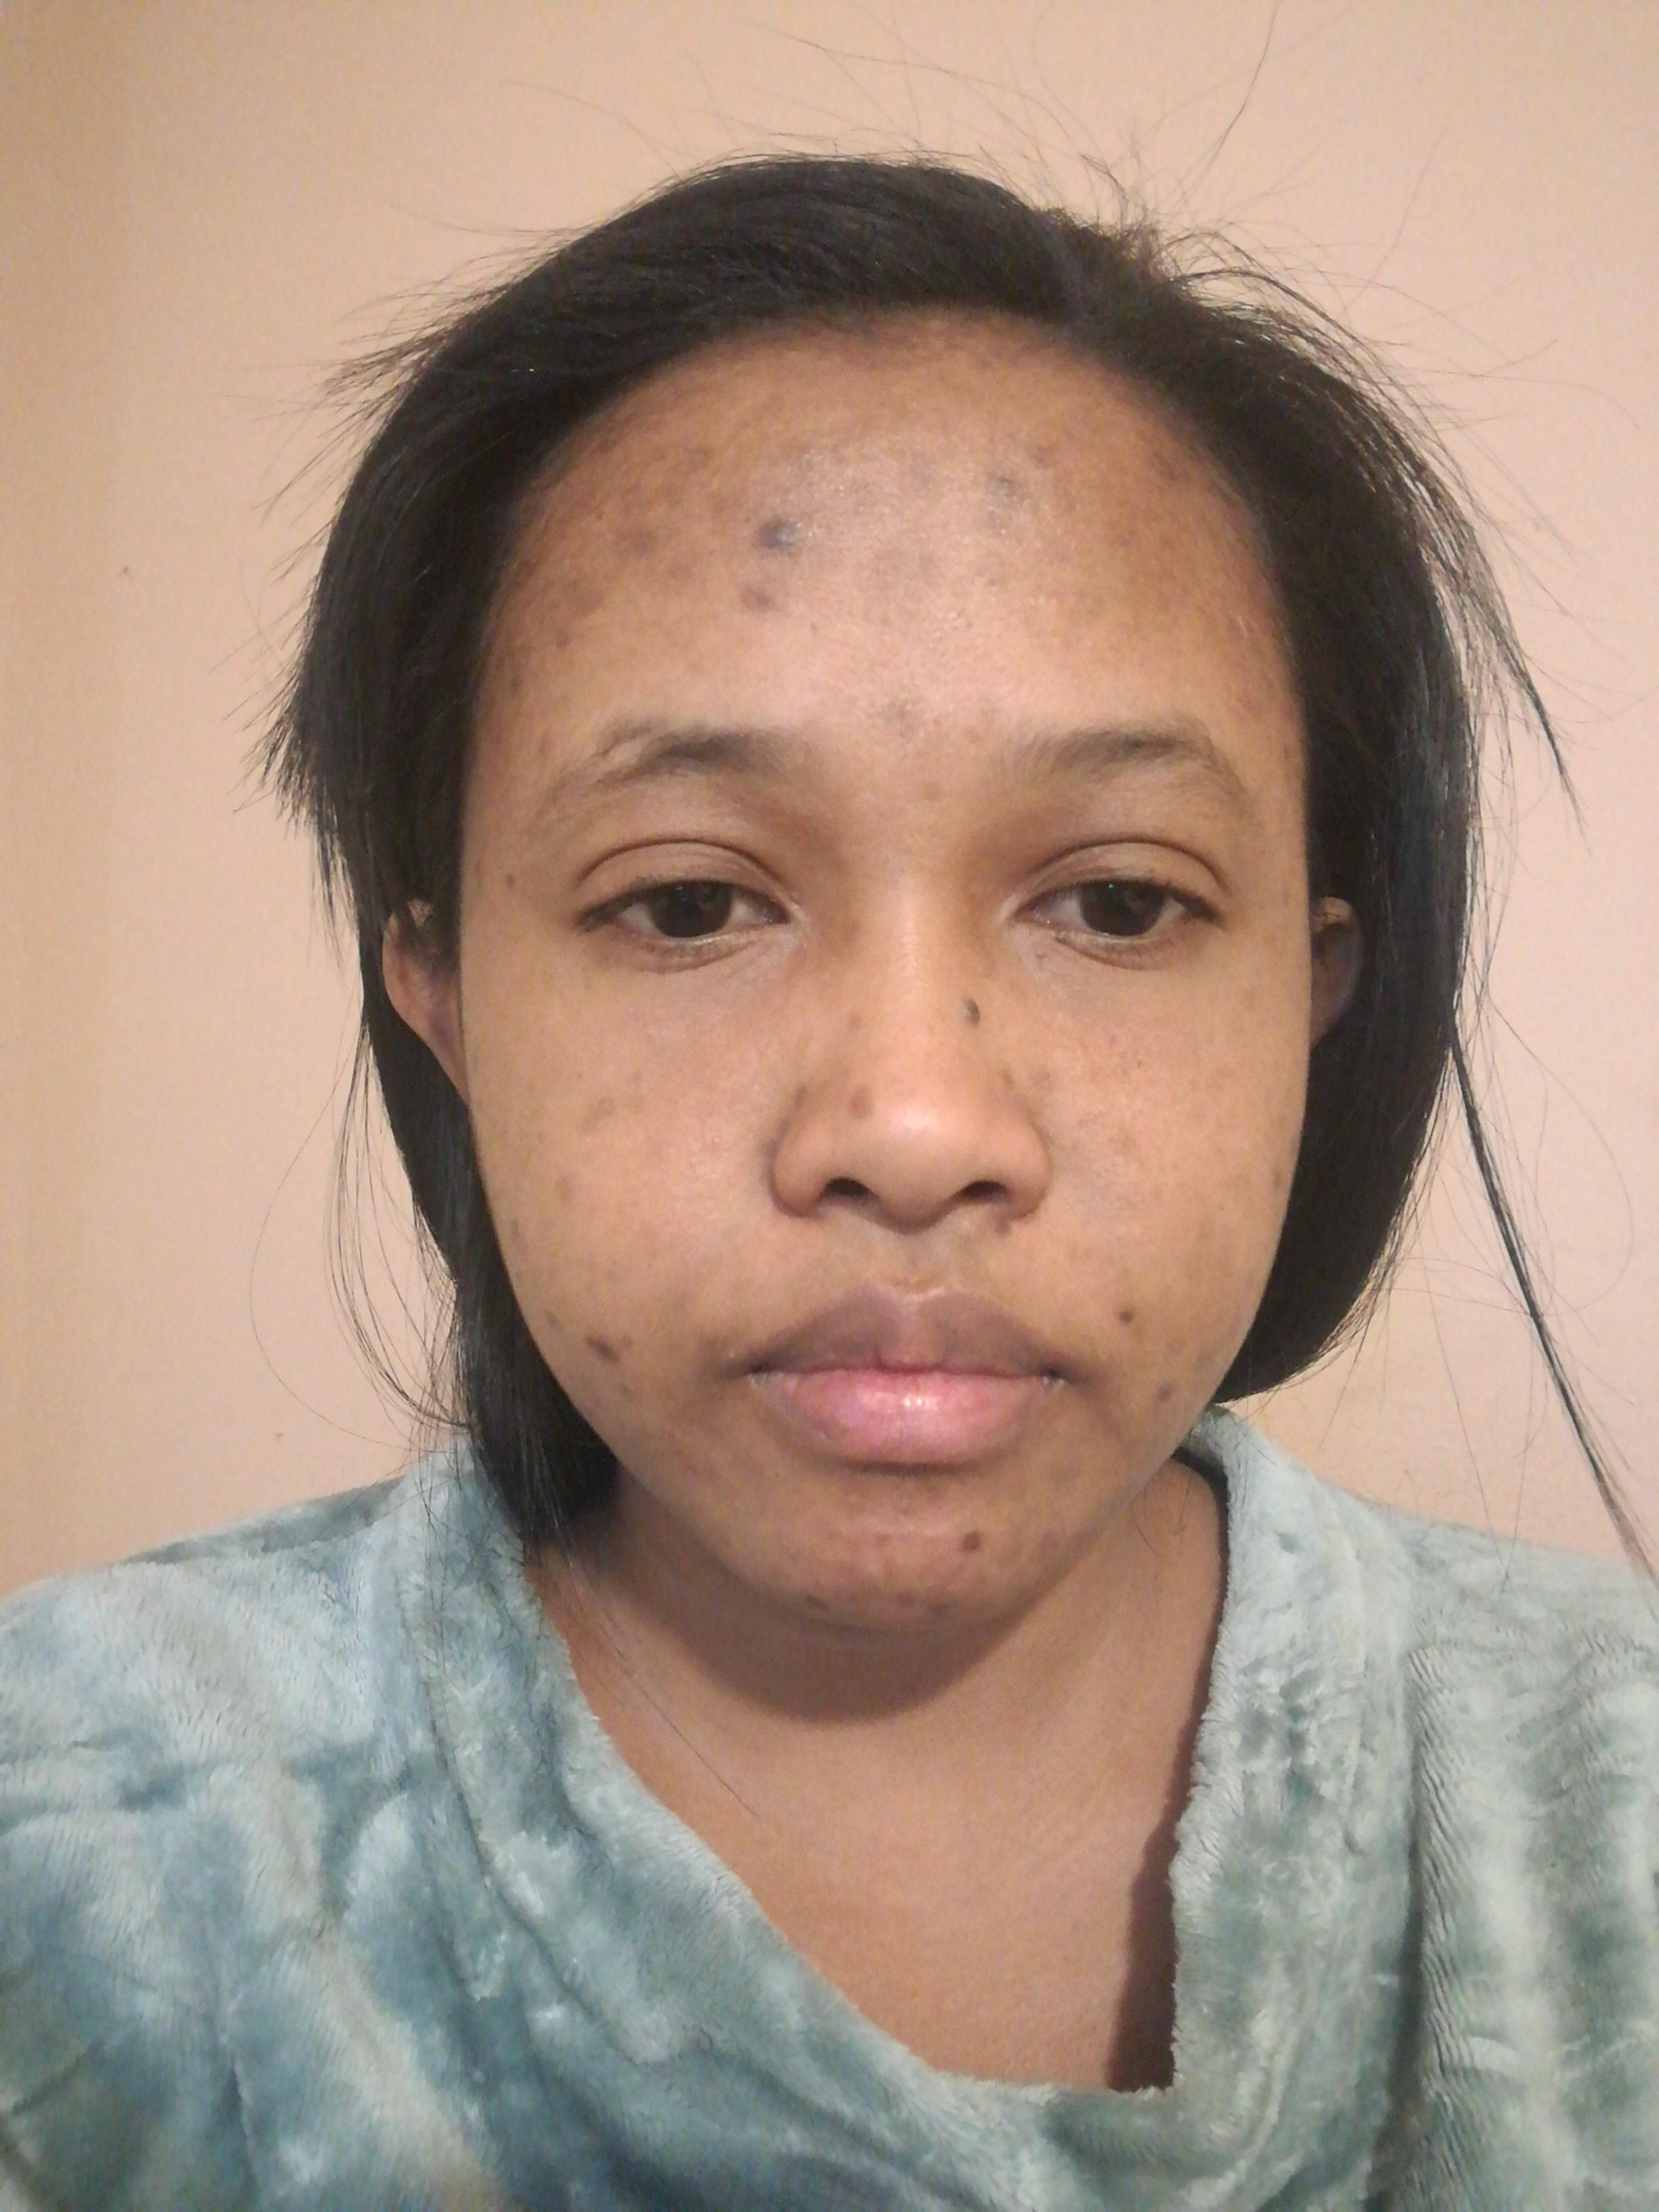Acne: (734, 498, 831, 618), (533, 514, 610, 662), (619, 441, 704, 564), (978, 435, 1060, 549), (1209, 601, 1274, 730), (866, 531, 957, 592), (1014, 578, 1108, 634), (572, 1066, 650, 1129), (782, 437, 845, 491), (885, 1585, 958, 1625), (889, 448, 943, 496), (1026, 1517, 1094, 1554), (877, 685, 922, 735), (774, 1069, 814, 1125), (587, 1322, 638, 1366), (842, 1080, 885, 1127), (1143, 441, 1183, 491), (532, 716, 563, 780), (892, 1474, 951, 1505), (547, 1163, 584, 1212), (789, 1580, 835, 1616), (870, 1526, 899, 1581), (1025, 1054, 1063, 1094), (915, 772, 951, 812), (1114, 1298, 1150, 1334), (1143, 1374, 1178, 1411), (1152, 1329, 1195, 1357), (985, 1212, 1021, 1245), (955, 1522, 986, 1561), (1234, 982, 1269, 1014), (958, 723, 997, 749), (497, 864, 519, 907), (612, 1376, 645, 1406), (505, 1204, 526, 1249), (505, 671, 535, 702), (840, 1000, 870, 1031), (1263, 1162, 1286, 1200), (535, 1306, 565, 1334), (993, 1066, 1018, 1097)
